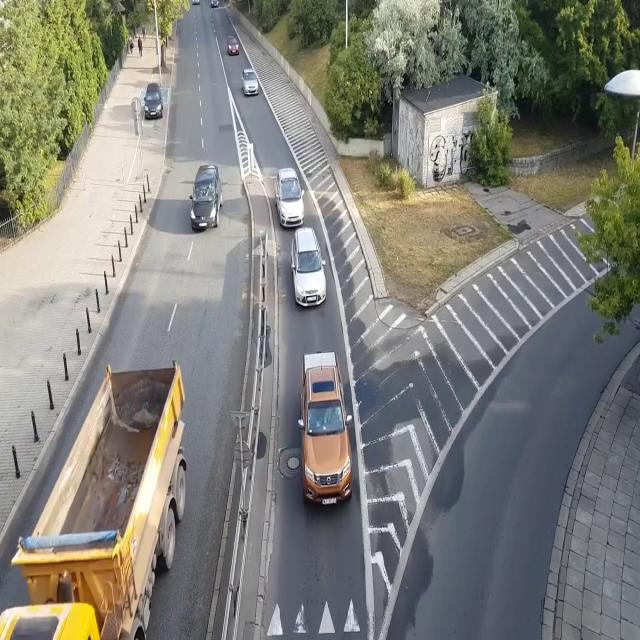car: (290, 227, 327, 308), (189, 164, 223, 232), (275, 168, 305, 228), (144, 83, 164, 120), (241, 67, 259, 96), (227, 34, 240, 56), (210, 0, 220, 8), (192, 0, 200, 5)
truck: (0, 360, 188, 640), (297, 350, 353, 509)
